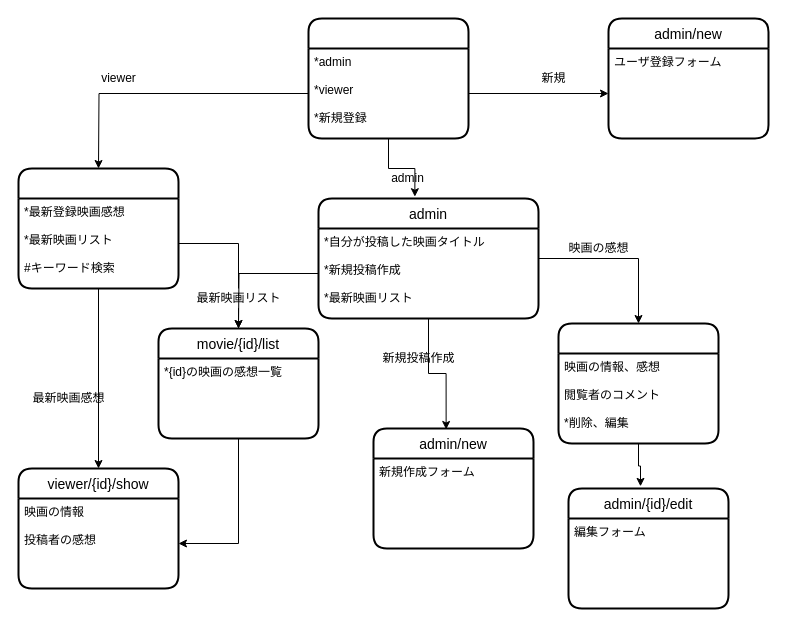
Image size: 786x626. Some labels were removed from this diagram. The box of each missing label's shape, as (x1, y1, x2, y2) in pixels:
admin/{id}/show: (557, 322, 719, 444)
index: (307, 17, 469, 139)
viewert/home: (17, 167, 179, 289)
